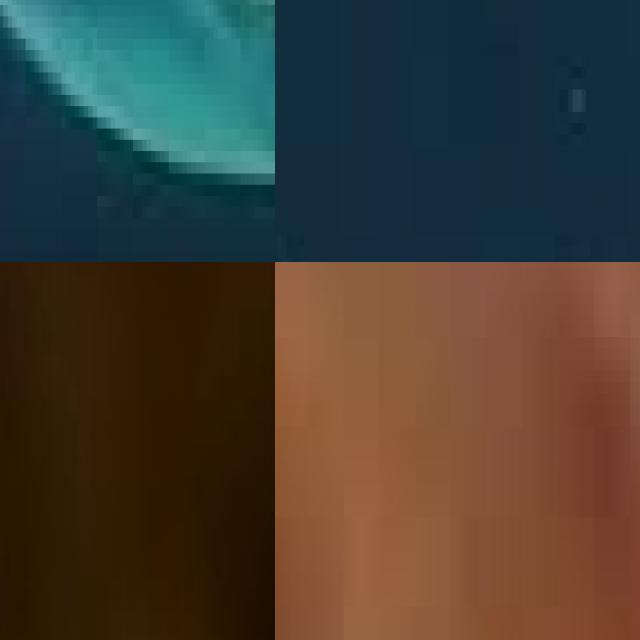fish: (0, 0, 275, 262), (275, 145, 640, 262)
